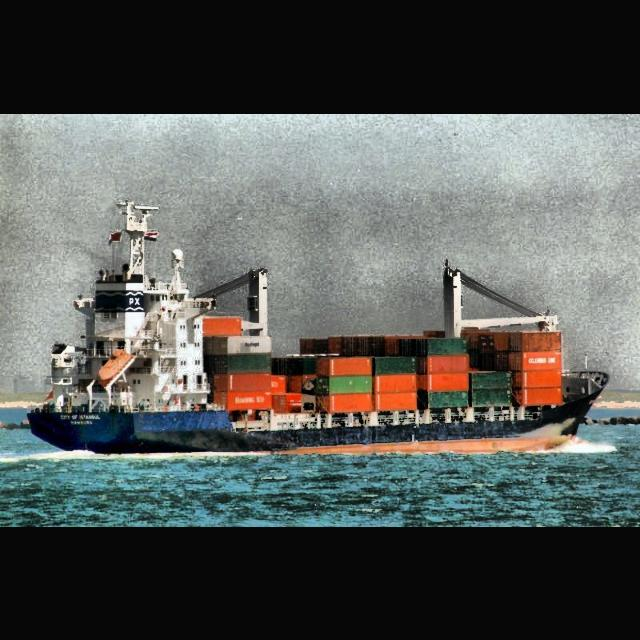container: (26, 198, 612, 458)
